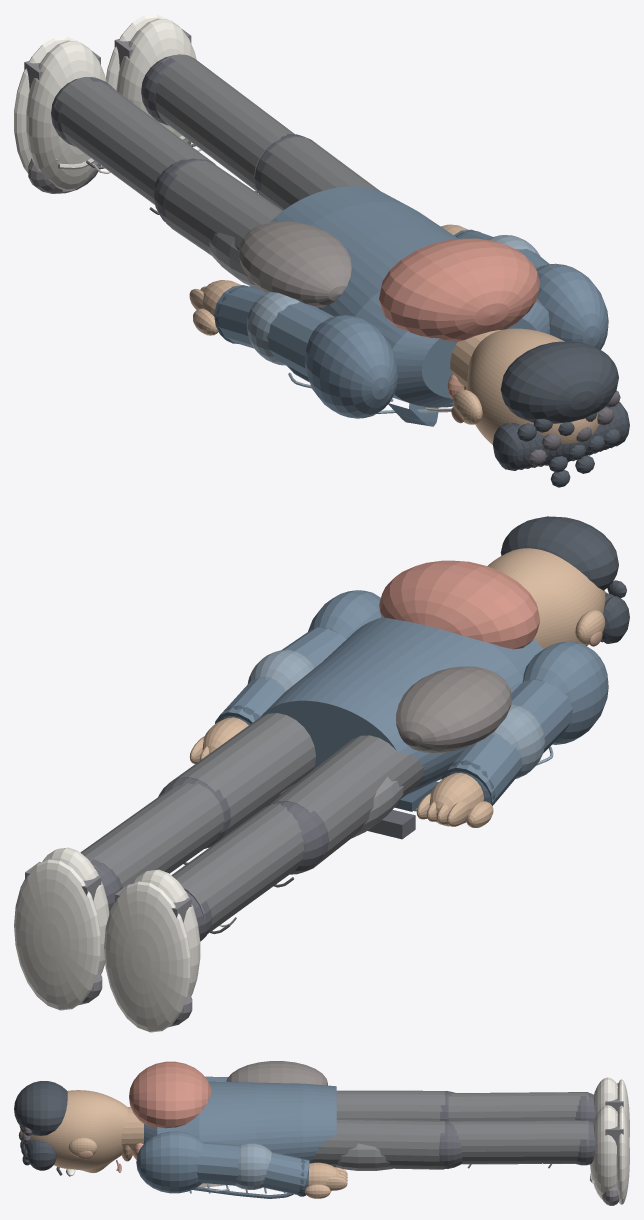
Rendered from looter_23.glb.
The picture shows the model from 3 angles, top to bottom: view 1: azimuth 30°, elevation 25°; view 2: azimuth 150°, elevation 25°; view 3: azimuth 270°, elevation 25°; orthographic projection. The views are drawn at different scales.
Visible parts, largest first — view 1: looter_23_jacket, looter_23_pants, looter_23_shirt, looter_23_hair, looter_23_shoe, looter_23_skin, looter_23_bag, looter_23_pantsDark, looter_23_sole, looter_23_jacketHi, looter_23_shoeDark, looter_23_pantsHi (+2 smaller); view 2: looter_23_pants, looter_23_jacket, looter_23_sole, looter_23_skin, looter_23_shirt, looter_23_bag, looter_23_hair, looter_23_pantsDark, looter_23_jacketHi, looter_23_shoe, looter_23_jacketDark, looter_23_shoeDark (+1 smaller); view 3: looter_23_pants, looter_23_jacket, looter_23_skin, looter_23_shirt, looter_23_hair, looter_23_shoe, looter_23_pantsDark, looter_23_bag, looter_23_jacketHi, looter_23_sole, looter_23_pantsHi, looter_23_jacketDark (+2 smaller).
Boxes of the visible parts, bbox=[...] form: looter_23_jacket: bbox=[214, 186, 608, 418]; looter_23_pants: bbox=[52, 54, 380, 255]; looter_23_shirt: bbox=[379, 238, 539, 403]; looter_23_hair: bbox=[492, 341, 629, 487]; looter_23_shoe: bbox=[26, 18, 196, 191]; looter_23_skin: bbox=[189, 224, 599, 444]; looter_23_bag: bbox=[239, 221, 351, 307]; looter_23_pantsDark: bbox=[51, 55, 316, 221]; looter_23_sole: bbox=[14, 14, 167, 173]; looter_23_jacketHi: bbox=[246, 235, 540, 413]; looter_23_shoeDark: bbox=[24, 29, 191, 193]; looter_23_pantsHi: bbox=[208, 232, 261, 290]; looter_23_pants: bbox=[80, 713, 424, 933]; looter_23_jacket: bbox=[215, 590, 608, 805]; looter_23_sole: bbox=[14, 859, 190, 1032]; looter_23_skin: bbox=[189, 548, 605, 827]; looter_23_shirt: bbox=[379, 560, 539, 649]; looter_23_bag: bbox=[396, 666, 511, 752]; looter_23_hair: bbox=[500, 516, 629, 643]; looter_23_pantsDark: bbox=[90, 777, 415, 941]; looter_23_jacketHi: bbox=[247, 650, 553, 811]; looter_23_shoe: bbox=[42, 847, 200, 995]; looter_23_jacketDark: bbox=[218, 705, 495, 811]; looter_23_shoeDark: bbox=[25, 862, 192, 1027]; looter_23_pants: bbox=[312, 1090, 588, 1169]; looter_23_jacket: bbox=[136, 1076, 336, 1194]; looter_23_skin: bbox=[20, 1090, 347, 1198]; looter_23_shirt: bbox=[129, 1061, 211, 1128]; looter_23_hair: bbox=[14, 1081, 70, 1176]; looter_23_shoe: bbox=[590, 1077, 617, 1199]; looter_23_pantsDark: bbox=[439, 1091, 595, 1168]; looter_23_bag: bbox=[226, 1061, 327, 1085]; looter_23_jacketHi: bbox=[189, 1143, 285, 1193]; looter_23_sole: bbox=[616, 1079, 629, 1204]; looter_23_pantsHi: bbox=[335, 1143, 393, 1170]; looter_23_jacketDark: bbox=[192, 1158, 309, 1198].
Size of the model in its own units: 0.6154 by 0.3822 by 1.79.
